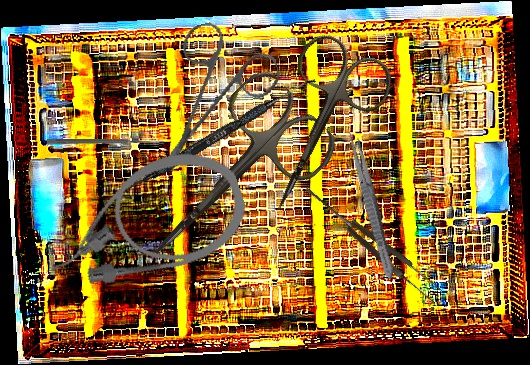Cannula: (32, 138, 257, 304)
Dressing Forceps: (344, 129, 399, 283)
Iris Scissors: (109, 63, 345, 297), (232, 27, 402, 232), (131, 9, 296, 173)
Spatula Surgical: (116, 70, 317, 203)
Surgical Spoon: (47, 139, 164, 145)
Tissue Forceps: (300, 179, 444, 305)
